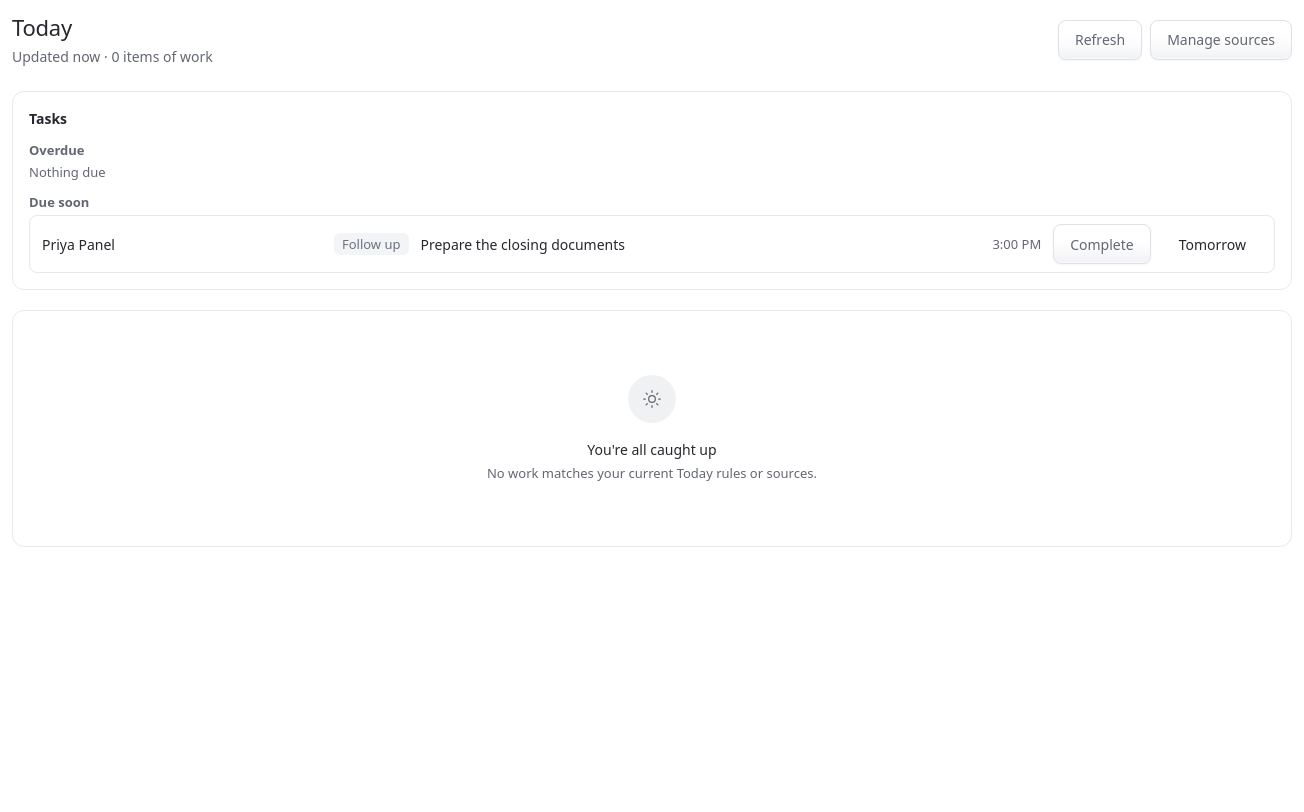
TodayView — Tasks panel action mutation keying (round-2 review fix 1) › a 403 on panel Complete re-enables the button and renders "You can no longer manage this task."
Click the button with test id "task-panel-complete-t-forbidden": (1102, 244) [1053,224,1151,264]
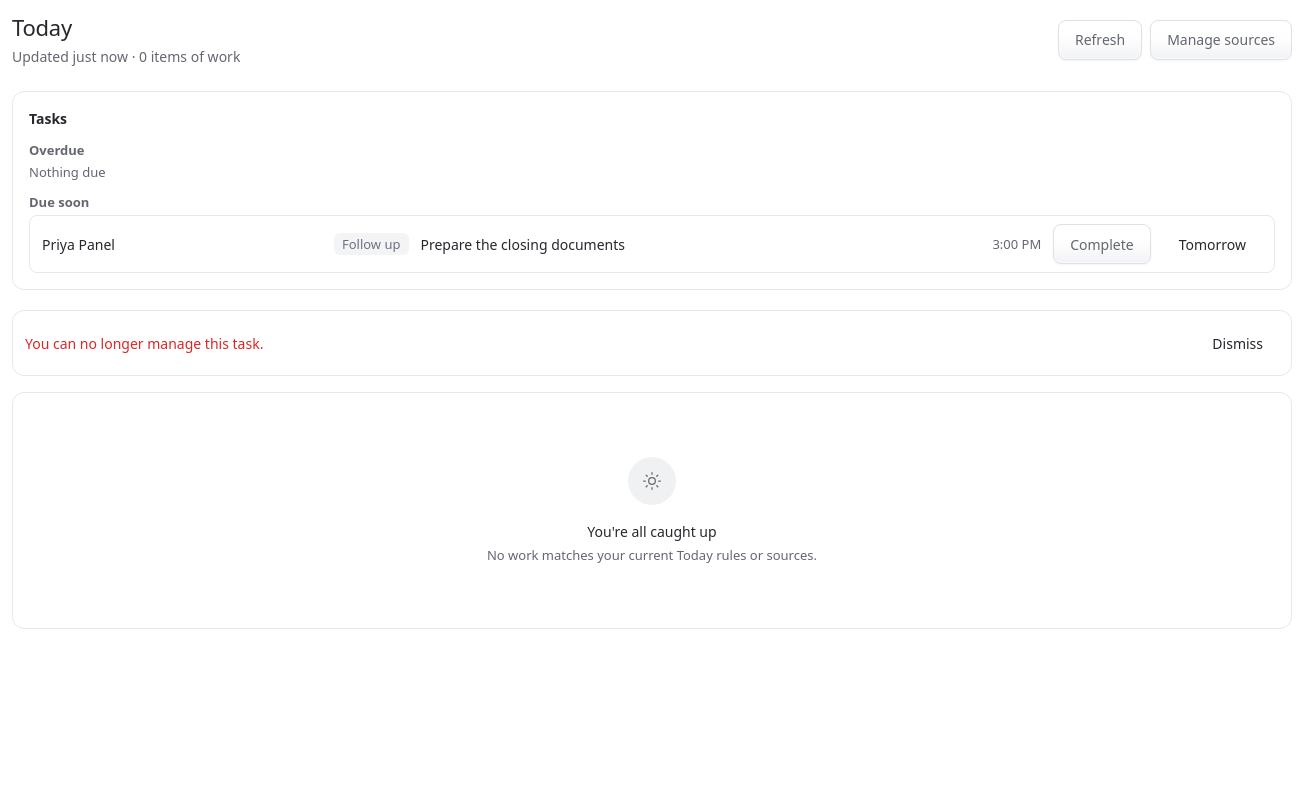
expect the message with test id "task-action-error-banner" shows "You can no longer manage this task.": met, box [25,334,263,352]
